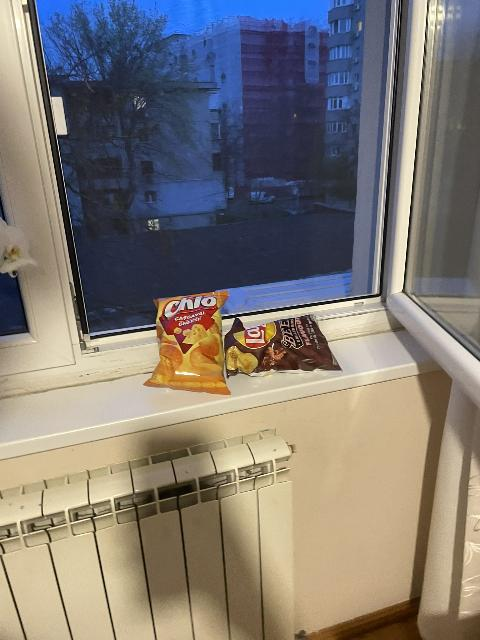Chio Cascaval 125g: (143, 291, 232, 394)
Lays Beef Grilled Ribs 125g: (225, 314, 341, 378)
